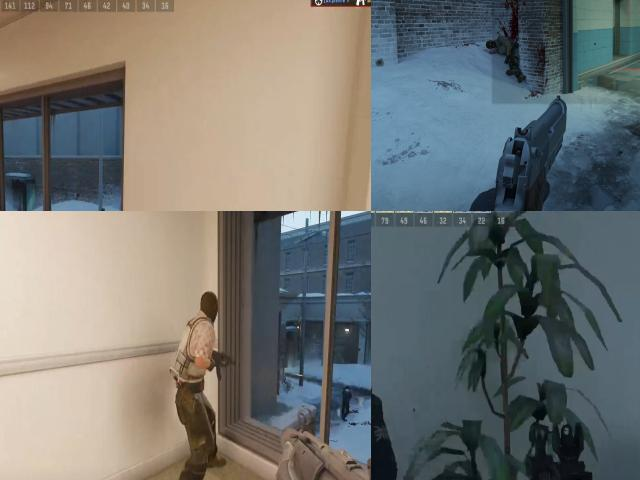CT: (340, 384, 352, 411), (92, 204, 112, 211)
CT-Head: (343, 385, 352, 395), (99, 207, 109, 211)
Dead: (486, 32, 532, 88)
T: (170, 308, 228, 422)
T-Head: (194, 288, 227, 326)
